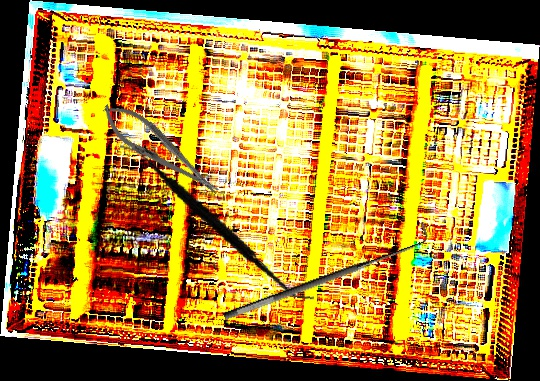Hook Surgical: (216, 221, 434, 323)
Needle Holder: (93, 93, 228, 207)
Spatula Surgical: (100, 142, 334, 301)
